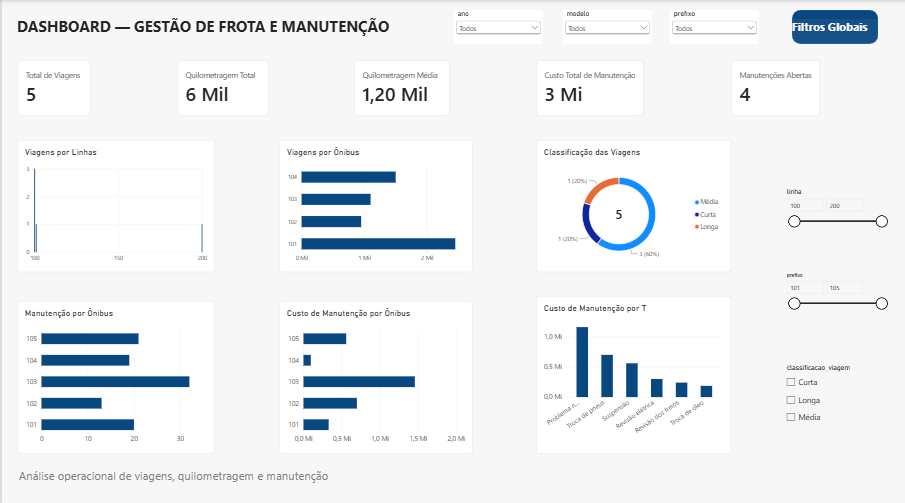

Layout of this report page (visuals, bound fields, positions):
{"tool":"powerbi","page":{"name":"Página 1","canvas":[1920,1080],"ordinal":0},"visuals":[{"type":"cardVisual","title":"Total de Viagens","fields":{"Data":["dados_viagens_tratados.Total de Viagens"]},"box":[31.9,127.6,157.3,119.1],"z":0},{"type":"cardVisual","title":"Quilometragem Total","fields":{"Data":["dados_viagens_tratados.Quilometragem Total"]},"box":[371,127.6,195.6,119.1],"z":1000},{"type":"cardVisual","title":"Quilometragem Média","fields":{"Data":["dados_viagens_tratados.Quilometragem Média"]},"box":[748.3,127.6,204.1,119.1],"z":2000},{"type":"cardVisual","title":"Custo Total de Manutenção","fields":{"Data":["dados_viagens_tratados.Custo Total de Manutenção"]},"box":[1135.3,127.6,229.6,119.1],"z":3000},{"type":"cardVisual","title":"Manutenções Abertas","fields":{"Data":["dados_viagens_tratados.Manutenções Abertas"]},"box":[1549.8,127.6,189.2,119.1],"z":4000},{"type":"clusteredColumnChart","title":"Viagens por Linhas","fields":{"Category":["dados_viagens_tratados.linha"],"Y":["dados_viagens_tratados.Total de Viagens"]},"box":[31.9,297.6,420.9,280.6],"z":5000},{"type":"barChart","title":"Viagens por Ônibus","fields":{"Category":["onibus.prefixo"],"Y":["dados_viagens_tratados.Quilometragem Total"]},"box":[587.8,297.6,412.4,280.6],"z":6000},{"type":"barChart","title":"Custo de Manutenção por Ônibus","fields":{"Category":["onibus.prefixo"],"Y":["dados_viagens_tratados.Custo Total de Manutenção"]},"box":[588.9,639.9,412.4,325.3],"z":7000},{"type":"barChart","title":"Manutenção por Ônibus","fields":{"Category":["onibus.prefixo"],"Y":["Sum(manutencao.id_manutencao)"]},"box":[31.9,639.9,420.9,325.3],"z":8000},{"type":"donutChart","title":"Classificação das Viagens","fields":{"Category":["dados_viagens_tratados.classificacao_viagem"],"Y":["dados_viagens_tratados.Total de Viagens"]},"box":[1135.3,297.6,414.6,280.6],"z":9000},{"type":"columnChart","title":"Custo de Manutenção por T","fields":{"Category":["manutencao.tipo"],"Y":["dados_viagens_tratados.Custo Total de Manutenção"]},"box":[1135.3,629.3,414.6,335.9],"z":10000},{"type":"slicer","fields":{"Values":["dados_viagens_tratados.linha"]},"box":[1660.4,399.7,225.4,140.3],"z":11000},{"type":"slicer","fields":{"Values":["onibus.prefixo"]},"box":[1660.4,578.3,225.4,123.3],"z":12000},{"type":"slicer","fields":{"Values":["dados_viagens_tratados.classificacao_viagem"]},"box":[1660.4,773.9,225.4,180.7],"z":13000},{"type":"textbox","box":[31.9,34,971.6,72.3],"z":14000},{"type":"textbox","box":[36.1,995,718.6,61.7],"z":15000},{"type":"shape","box":[1679.5,21.3,183,72.3],"z":16000,"group":"g1"},{"type":"textbox","box":[1679.5,40.4,206.2,53.1],"z":17000,"group":"g1"},{"type":"group","id":"g1","title":"Grupo 1","box":[1679.5,21.3,206.2,72.3],"z":17001},{"type":"slicer","fields":{"Values":["onibus.ano"]},"box":[960.9,21.3,189.2,72.3],"z":17002},{"type":"slicer","fields":{"Values":["onibus.modelo"]},"box":[1192.7,21.3,189.2,72.3],"z":17003},{"type":"slicer","fields":{"Values":["onibus.prefixo"]},"box":[1420.2,21.3,189.2,72.3],"z":17004}]}

Visuals, with their boxes in screenshot pixels (x1, y1, x2, y2), scaled from the page's 1920x1080 canvas onto the 905x503 screenshot:
"Total de Viagens" cardVisual: <region>15, 59, 89, 115</region>
"Quilometragem Total" cardVisual: <region>175, 59, 267, 115</region>
"Quilometragem Média" cardVisual: <region>353, 59, 449, 115</region>
"Custo Total de Manutenção" cardVisual: <region>535, 59, 643, 115</region>
"Manutenções Abertas" cardVisual: <region>731, 59, 820, 115</region>
"Viagens por Linhas" clusteredColumnChart: <region>15, 139, 213, 269</region>
"Viagens por Ônibus" barChart: <region>277, 139, 471, 269</region>
"Custo de Manutenção por Ônibus" barChart: <region>278, 298, 472, 450</region>
"Manutenção por Ônibus" barChart: <region>15, 298, 213, 450</region>
"Classificação das Viagens" donutChart: <region>535, 139, 731, 269</region>
"Custo de Manutenção por T" columnChart: <region>535, 293, 731, 450</region>
slicer - dados_viagens_tratados.linha: <region>783, 186, 889, 252</region>
slicer - onibus.prefixo: <region>783, 269, 889, 327</region>
slicer - dados_viagens_tratados.classificacao_viagem: <region>783, 360, 889, 445</region>
textbox: <region>15, 16, 473, 50</region>
textbox: <region>17, 463, 356, 492</region>
shape: <region>792, 10, 878, 44</region>
textbox: <region>792, 19, 889, 44</region>
"Grupo 1" group: <region>792, 10, 889, 44</region>
slicer - onibus.ano: <region>453, 10, 542, 44</region>
slicer - onibus.modelo: <region>562, 10, 651, 44</region>
slicer - onibus.prefixo: <region>669, 10, 759, 44</region>
